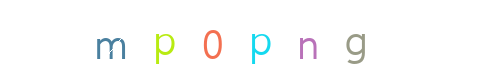0: (172, 0, 252, 80)
G: (277, 0, 357, 80)
M: (70, 0, 150, 80)
N: (219, 0, 299, 80)
P: (123, 0, 203, 80), (205, 0, 285, 80)
